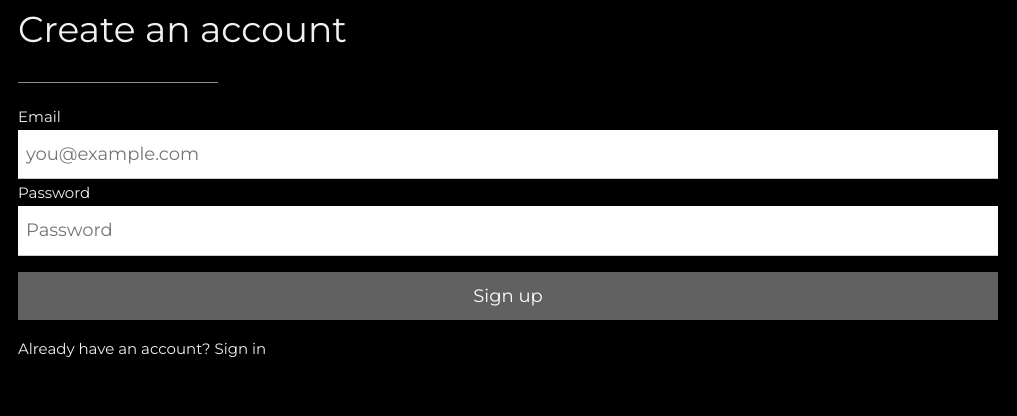
it: Signup › shows validation error when email or password is empty
Click the button "Sign up": (508, 296) [18,272,998,320]
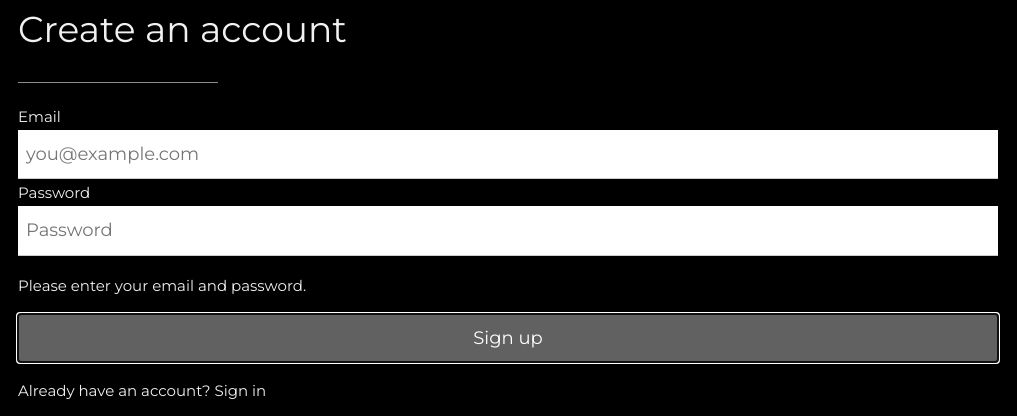
Result: the message reads "Please enter your email and password." at [18,276,306,295]
